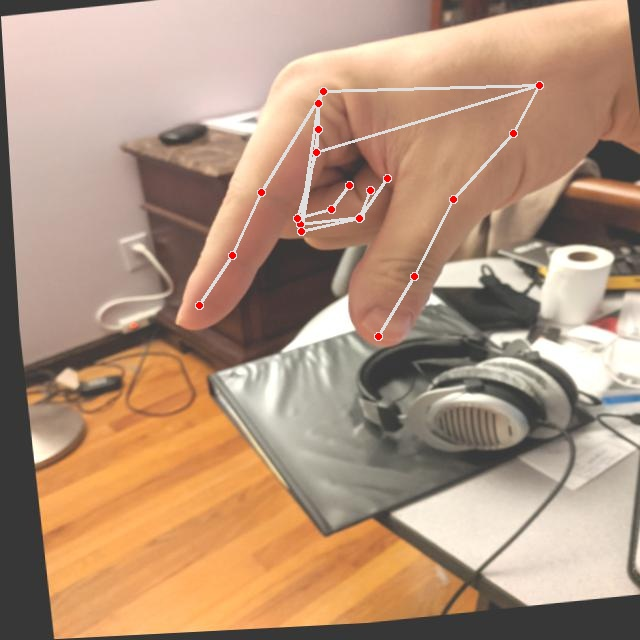Q: (137, 0, 631, 375)
